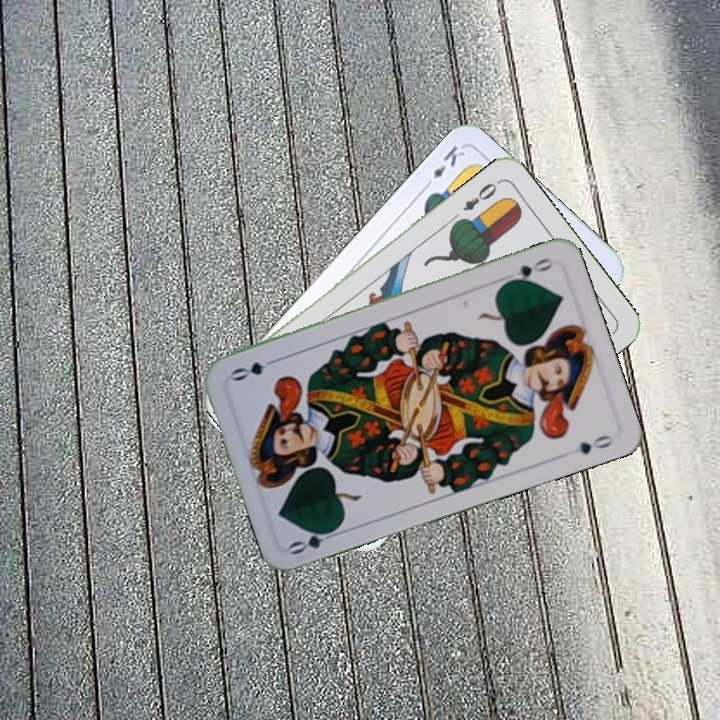EK: (420, 141, 468, 192)
EO: (459, 176, 503, 214)
GO: (285, 523, 343, 558), (501, 254, 557, 287)
